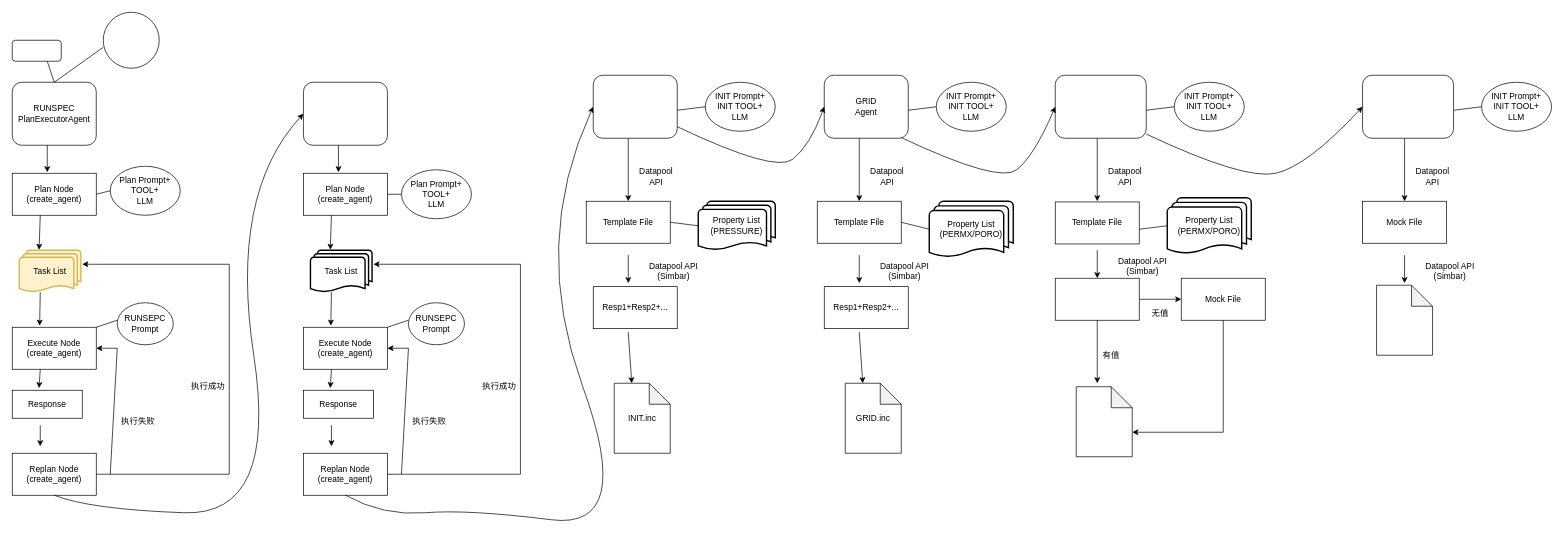
This 1564x533 diagram has some shape labels left out. The box of each missing label's shape, as (x1, y1, x2, y2) in pixels:
INIT Agent: (593, 75, 677, 138)
LLM wen2.5-instruct: (103, 12, 159, 68)
PROPERTY PlanExecutorAgent: (303, 82, 387, 145)
Question: (12, 40, 61, 61)
Resp: (1055, 278, 1139, 320)
Schedule Agent: (1055, 75, 1146, 138)
Schedule.inc: (1076, 386, 1132, 457)
Summary Agent: (1362, 75, 1454, 138)
Summary.inc: (1376, 285, 1433, 355)
